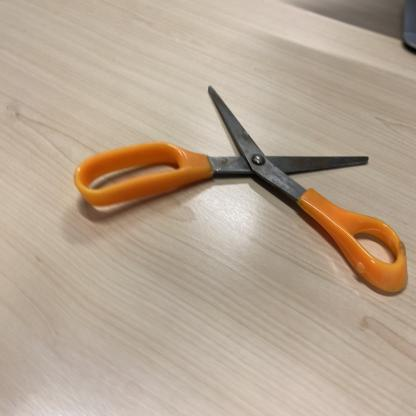scissors: (73, 84, 407, 300)
